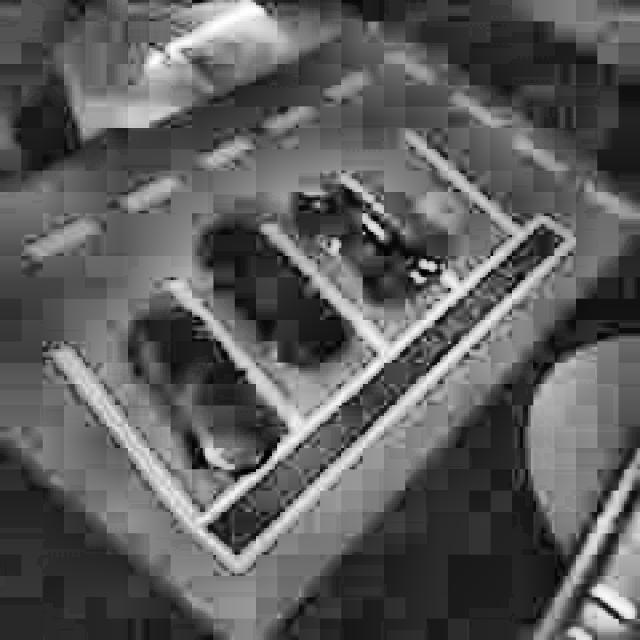car: (122, 289, 285, 483), (186, 203, 352, 374), (282, 165, 439, 321)
